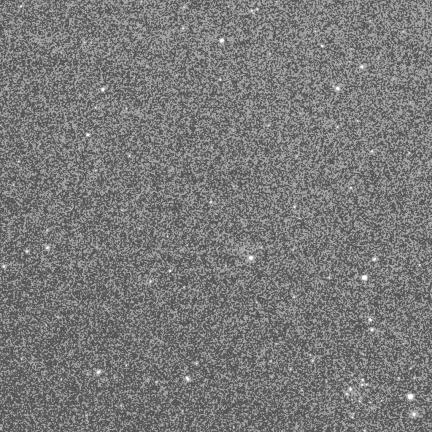blob: (185, 376, 190, 381), (408, 394, 413, 399), (362, 275, 367, 280), (219, 38, 224, 43), (361, 65, 365, 70), (249, 256, 253, 260), (101, 88, 105, 92), (370, 328, 374, 332), (336, 87, 340, 91), (369, 319, 373, 322), (46, 246, 49, 250), (373, 257, 376, 261), (321, 45, 324, 48), (87, 133, 89, 137)
